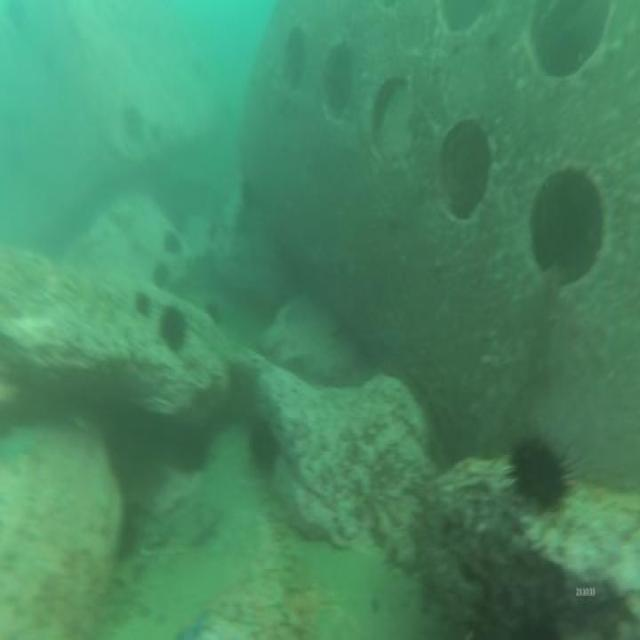echinus: (510, 430, 566, 521), (156, 297, 192, 357), (248, 417, 283, 476), (160, 220, 187, 260), (151, 256, 173, 291), (133, 286, 153, 322)
